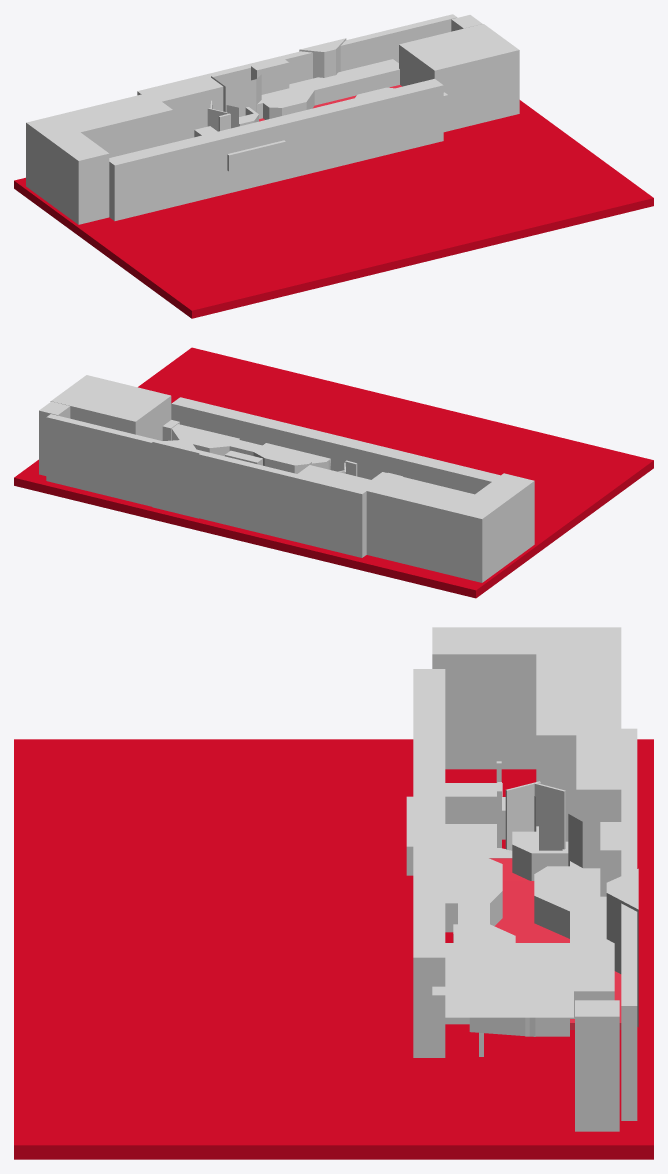
File: school_forum.hitboxes.glb
3 views of the same model, one above another, from view 1: azimuth 30°, elevation 25°; view 2: azimuth 150°, elevation 25°; view 3: azimuth 270°, elevation 25° (orthographic). The views are drawn at different scales.
Visible parts, largest first — view 1: Hitbox_floor_invisible, Hitbox_WallFront_invisible, HitboxWallC_invisible.001, HitboxWallBack_invisible.001, HitboxWallB_invisible.001, HitboxWallBack_invisible, HitboxWallBack_invisible.002, HitboxUpper_Balustrade_invisible.004, HitboxUpper_Balustrrade_fullhitbox_invisible.002, HitboxUpper_Balustrrade_invisible.004, Hitbox_WallBack_Entrance_fullhitbox_invisible.002, Hitbox_WallBack_Entrance_invisible.001 (+1 smaller); view 2: Hitbox_floor_invisible, HitboxWallBack_invisible, HitboxWallBack_invisible.001, Hitbox_WallFront_invisible, HitboxWallC_invisible.001, HitboxJanitor_invisible_fullhitbox, HitboxWallB_invisible.001, HitboxUpper_Balustrrade_fullhitbox_invisible.001, HitboxUpper_Balustrrade_fullhitbox_invisible.003, HitboxWallC_invisible.002, HitboxWallBack_invisible.002; view 3: Hitbox_floor_invisible, HitboxWallB_invisible.001, Hitbox_WallFront_invisible, HitboxWallBack_invisible.001, HitboxWallC_invisible.001, HitboxWallBack_invisible, HitboxWallC_invisible.002, HitboxWallBack_invisible.002, HitboxUpper_Balustrrade_fullhitbox_invisible.002, HitboxUpper_Balustrade_invisible.004, HitboxUpper_Balustrrade_fullhitbox_invisible.001, HitboxUpper_Floor_invisible.001 (+12 smaller).
Part boxes in pixels (x1,y1,x2,y2): Hitbox_floor_invisible: [14, 100, 653, 318]; Hitbox_WallFront_invisible: [109, 78, 443, 220]; HitboxWallC_invisible.001: [399, 24, 519, 132]; HitboxWallBack_invisible.001: [26, 92, 172, 203]; HitboxWallB_invisible.001: [49, 132, 109, 224]; HitboxWallBack_invisible: [137, 14, 457, 95]; HitboxWallBack_invisible.002: [149, 77, 223, 142]; HitboxUpper_Balustrade_invisible.004: [302, 59, 399, 105]; HitboxUpper_Balustrrade_fullhitbox_invisible.002: [261, 81, 314, 119]; HitboxUpper_Balustrrade_invisible.004: [227, 140, 285, 171]; Hitbox_WallBack_Entrance_fullhitbox_invisible.002: [211, 74, 261, 116]; Hitbox_WallBack_Entrance_invisible.001: [251, 58, 289, 94]; Hitbox_floor_invisible: [14, 347, 653, 598]; HitboxWallBack_invisible: [46, 414, 366, 557]; HitboxWallBack_invisible.001: [359, 472, 505, 582]; Hitbox_WallFront_invisible: [171, 397, 500, 494]; HitboxWallC_invisible.001: [50, 375, 171, 440]; HitboxJanitor_invisible_fullhitbox: [152, 440, 199, 518]; HitboxWallB_invisible.001: [475, 473, 534, 565]; HitboxUpper_Balustrrade_fullhitbox_invisible.001: [253, 443, 330, 473]; HitboxUpper_Balustrrade_fullhitbox_invisible.003: [171, 424, 239, 456]; HitboxWallC_invisible.002: [39, 401, 70, 475]; HitboxWallBack_invisible.002: [298, 465, 370, 488]; Hitbox_floor_invisible: [14, 739, 653, 1159]; HitboxWallB_invisible.001: [432, 627, 536, 769]; Hitbox_WallFront_invisible: [413, 669, 445, 1057]; HitboxWallBack_invisible.001: [536, 627, 621, 841]; HitboxWallC_invisible.001: [445, 943, 573, 1017]; HitboxWallBack_invisible: [621, 728, 637, 1120]; HitboxWallC_invisible.002: [575, 1000, 619, 1131]; HitboxWallBack_invisible.002: [576, 735, 621, 821]; HitboxUpper_Balustrrade_fullhitbox_invisible.002: [534, 866, 606, 938]; HitboxUpper_Balustrade_invisible.004: [570, 911, 614, 1018]; HitboxUpper_Balustrrade_fullhitbox_invisible.001: [445, 846, 502, 932]; HitboxUpper_Floor_invisible.001: [494, 881, 621, 1029].
Size of the model in its own units: 60 by 9.2 by 40.
